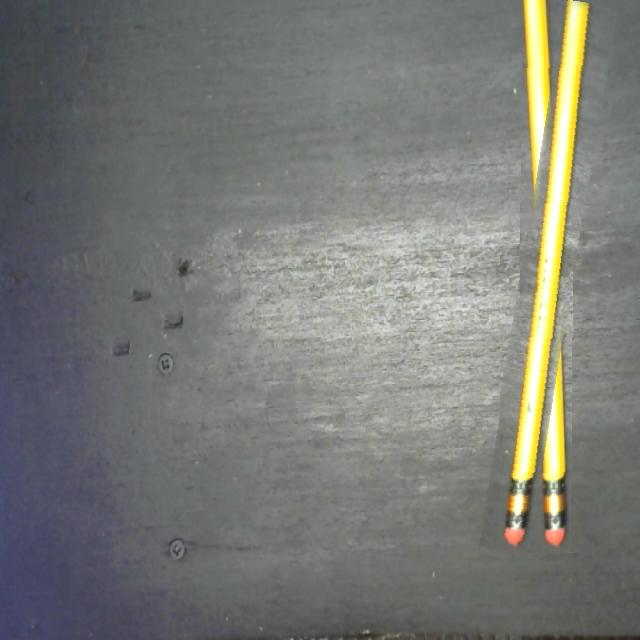biodegradable: (500, 0, 596, 553)
